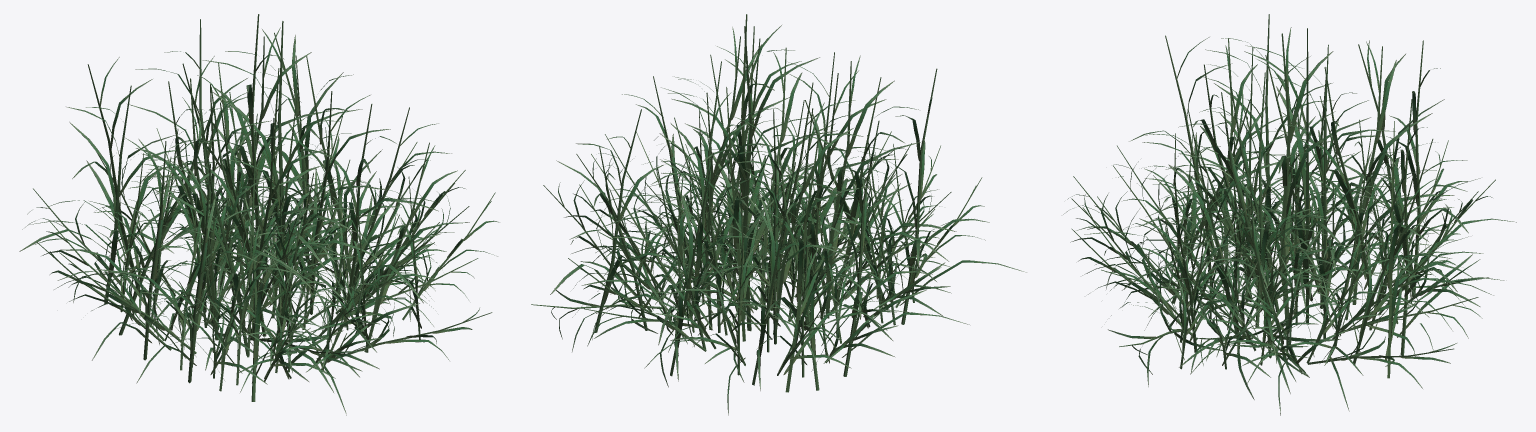
The model's file is realistics_grass_10.glb.
The picture shows the model from 3 angles, left to right: view 1: azimuth 30°, elevation 25°; view 2: azimuth 150°, elevation 25°; view 3: azimuth 270°, elevation 25°; orthographic projection. The views are drawn at different scales.
Parts seen in each view (by area): view 1: Object_2; view 2: Object_2; view 3: Object_2.
Part boxes in pixels (x1,y1,x2,y2): Object_2: (19, 14, 499, 415); Object_2: (531, 14, 1026, 415); Object_2: (1063, 14, 1516, 415).
Bounding box in the file's own units: 101 × 78.33 × 101.
1 material, 1 textured.
